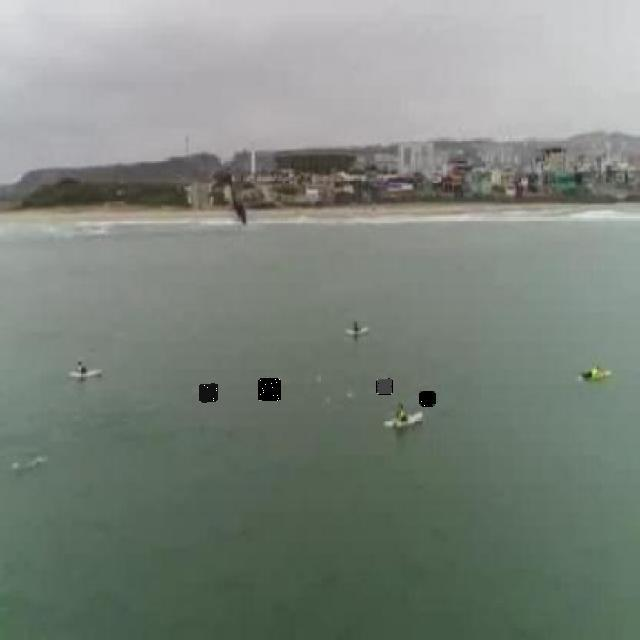swimming: (259, 379, 280, 401), (199, 384, 218, 402), (377, 379, 392, 394), (420, 391, 435, 406)
